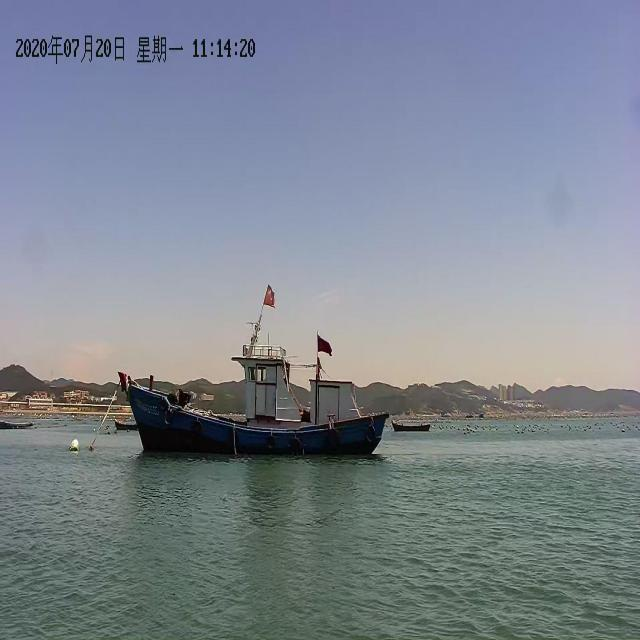CIV_Ship: (112, 331, 388, 462), (108, 412, 142, 436), (390, 418, 434, 434)
